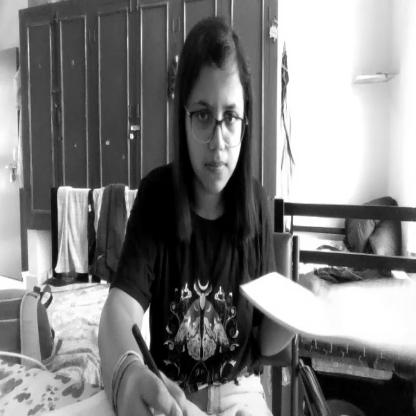Normal: (175, 22, 249, 200)
